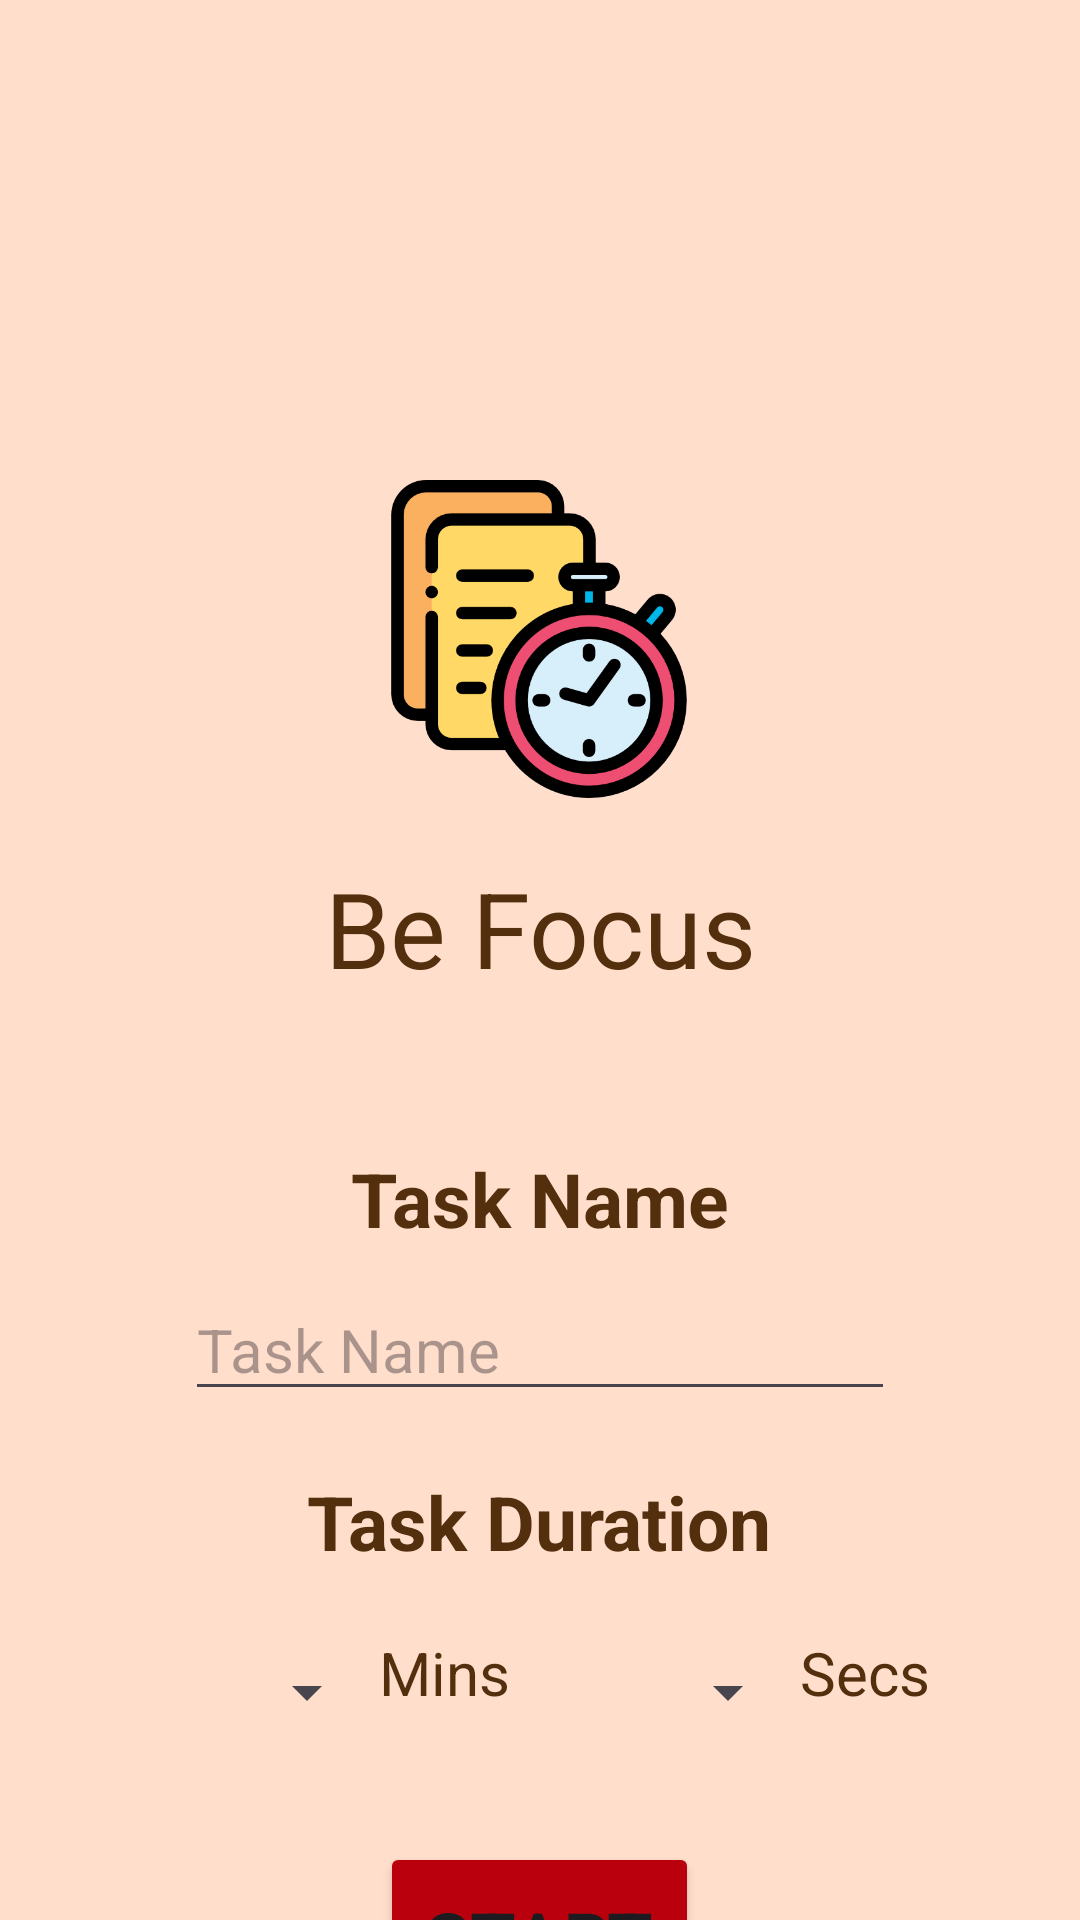

Where to tap for icons on this 1080 x 1920 app screen, as point (x, y):
timer: point (539, 639)
